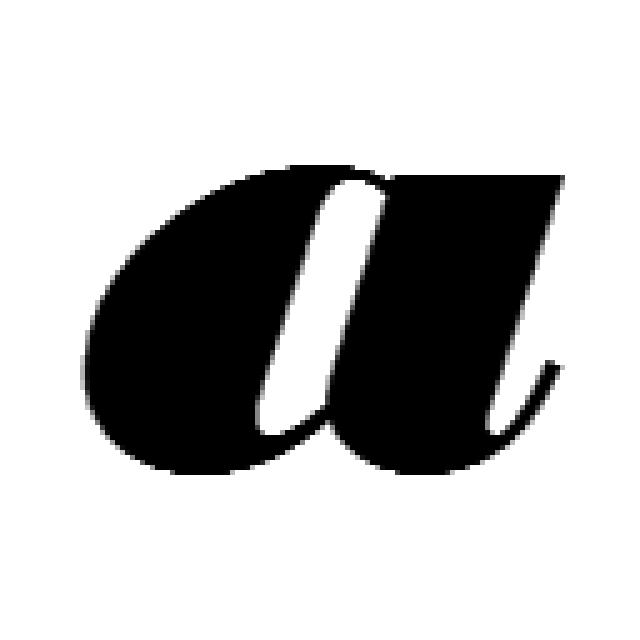A: (75, 165, 565, 478)
